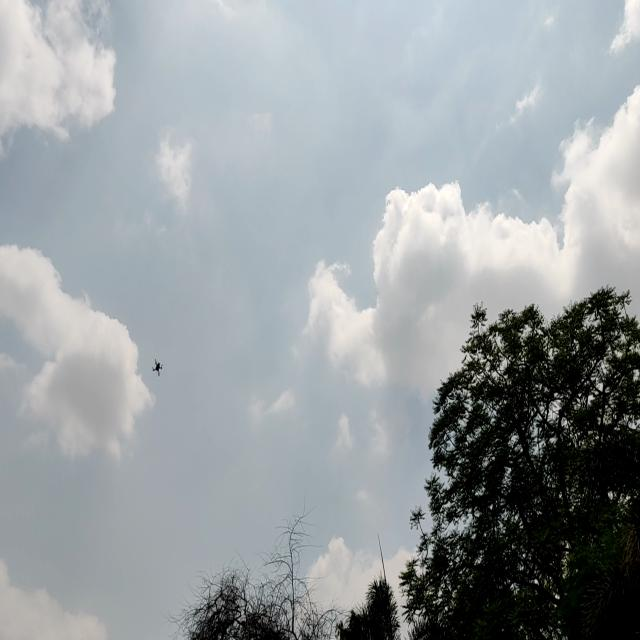drone: (148, 354, 168, 380)
